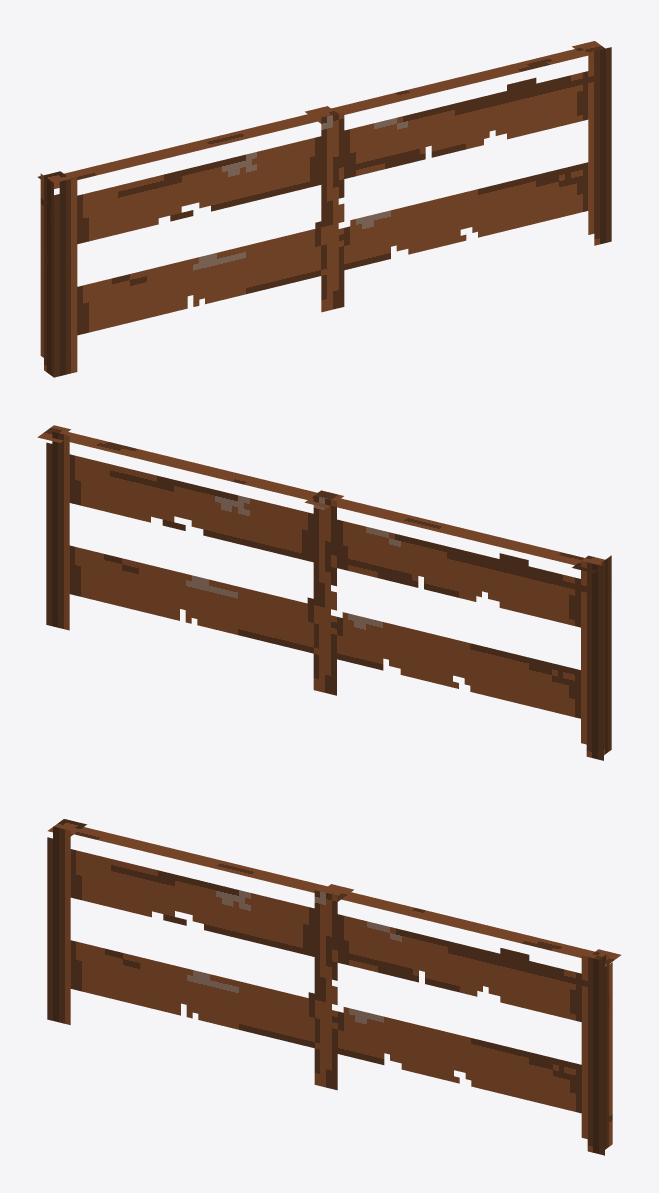
File: OldWallBig.gltf
3 views of the same model, one above another, from view 1: azimuth 30°, elevation 25°; view 2: azimuth 150°, elevation 25°; view 3: azimuth 330°, elevation 25° (orthographic).
Size of the model in its own units: 6.5 by 2.5 by 0.5.
1 material, 1 textured.
